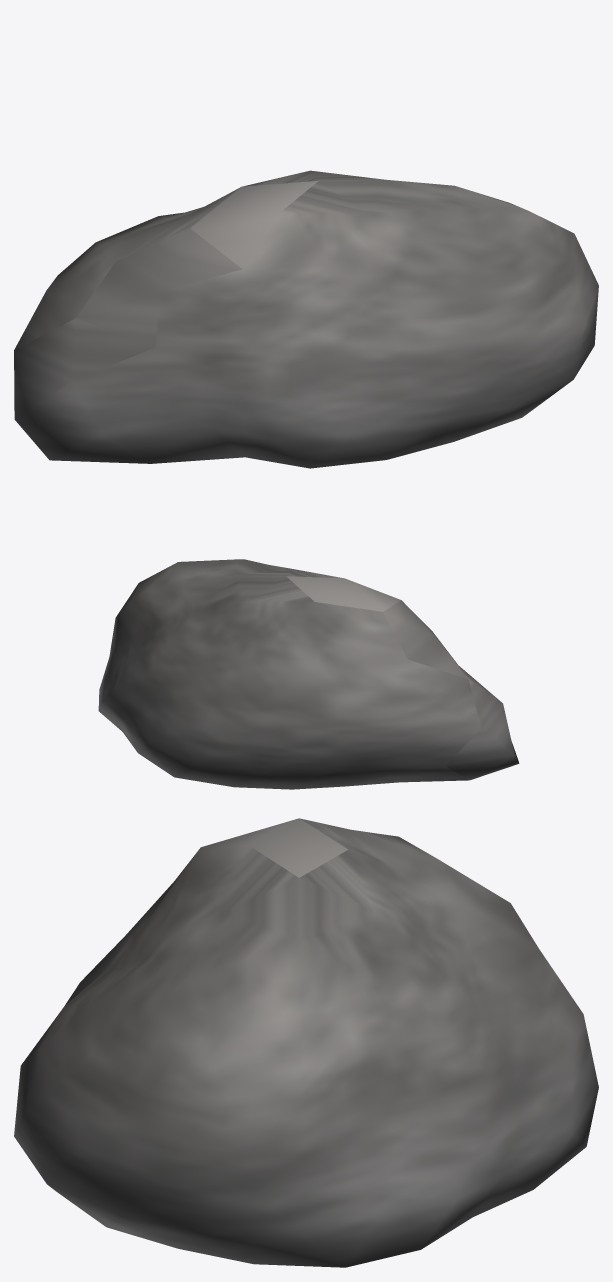
Rendered from rocklichen.glb.
3 views of the same model, one above another, from view 1: azimuth 30°, elevation 25°; view 2: azimuth 150°, elevation 25°; view 3: azimuth 270°, elevation 25° (orthographic). The views are drawn at different scales.
Visible parts, largest first — view 1: rocklichen; view 2: rocklichen; view 3: rocklichen.
Part boxes in pixels (left/top/right/bottom): rocklichen: left=14, top=170, right=598, bottom=468; rocklichen: left=98, top=559, right=519, bottom=789; rocklichen: left=14, top=818, right=598, bottom=1267.
Size of the model in its own units: 0.4314 by 0.1614 by 0.3129.
1 material, 1 textured.
